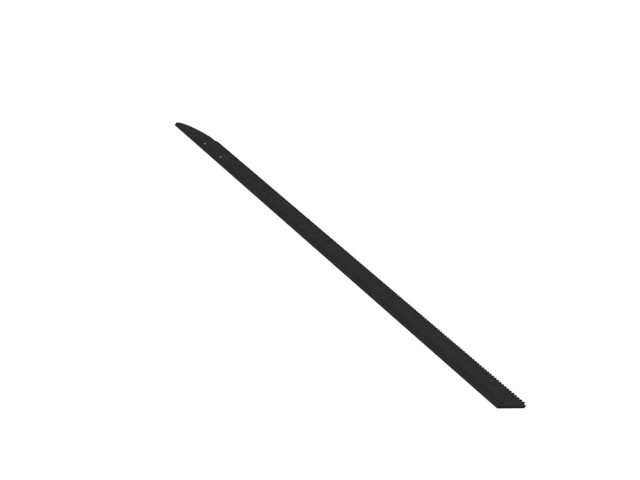ruler: (169, 121, 528, 416)
